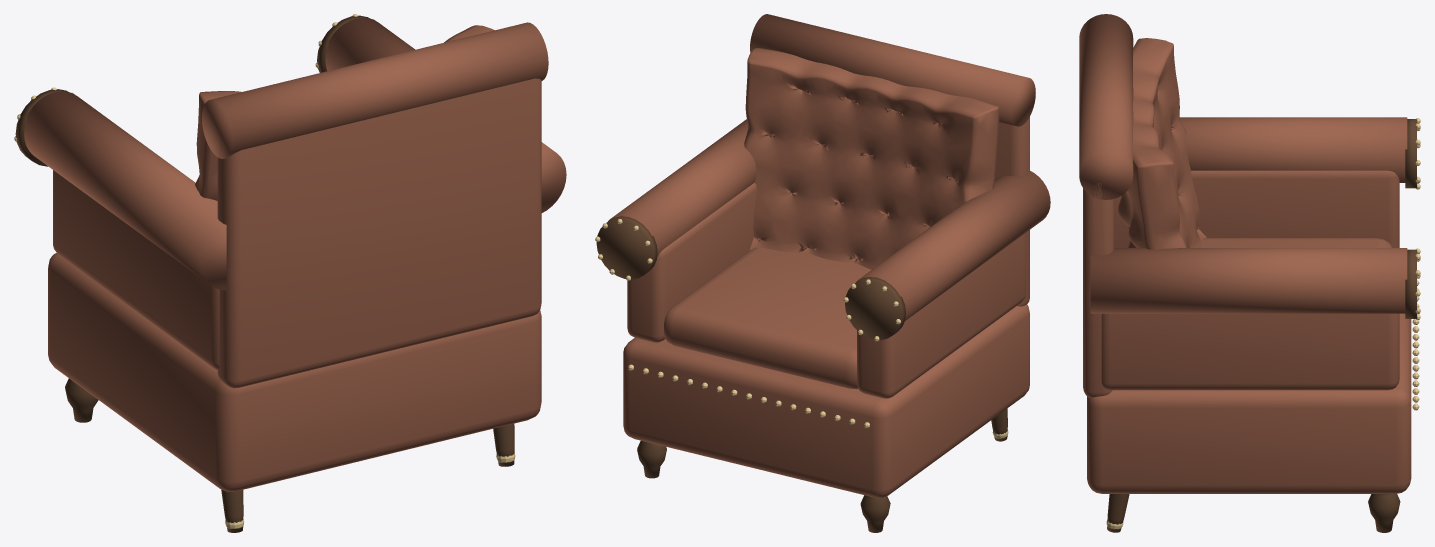
File: chair.glb
3 renders of one model, left to right at view 1: azimuth 30°, elevation 25°; view 2: azimuth 150°, elevation 25°; view 3: azimuth 270°, elevation 25°, orthographic. The views are drawn at different scales.
Visible parts, largest first — view 1: backpanel, body, backroll, armroll_L, arm_L, armroll_R, back, leg_BL (×2), leg_FL, armface_L; view 2: back, body, cushion, arm_L, armroll_L, backroll, arm_R, armroll_R, armface_L, armface_R, backpanel, leg_FL (×2); view 3: body, arm_R, armroll_R, arm_L, armroll_L, back, backroll, backpanel, cushion, leg_FL, armface_L, armface_R (+1 smaller).
Part boxes in pixels (left/top/right/bottom): backpanel: left=217, top=78, right=541, bottom=388; body: left=48, top=253, right=541, bottom=491; backroll: left=202, top=22, right=548, bottom=158; armroll_L: left=24, top=91, right=226, bottom=290; arm_L: left=53, top=170, right=219, bottom=369; armroll_R: left=325, top=17, right=566, bottom=212; back: left=195, top=25, right=494, bottom=200; leg_BL (×2): left=221, top=423, right=514, bottom=532; leg_FL: left=65, top=378, right=98, bottom=422; armface_L: left=15, top=89, right=68, bottom=166; back: left=744, top=47, right=999, bottom=269; body: left=623, top=304, right=1029, bottom=498; cushion: left=664, top=247, right=871, bottom=389; arm_L: left=857, top=233, right=1025, bottom=398; armroll_L: left=856, top=171, right=1050, bottom=320; backroll: left=750, top=14, right=1035, bottom=126; arm_R: left=627, top=182, right=756, bottom=342; armroll_R: left=608, top=119, right=756, bottom=257; armface_L: left=845, top=277, right=905, bottom=340; armface_R: left=596, top=216, right=657, bottom=279; backpanel: left=994, top=117, right=1029, bottom=306; leg_FL (×2): left=637, top=440, right=890, bottom=532; body: left=1087, top=313, right=1411, bottom=493; arm_R: left=1101, top=313, right=1399, bottom=390; armroll_R: left=1090, top=248, right=1407, bottom=313; arm_L: left=1114, top=170, right=1399, bottom=247; armroll_L: left=1179, top=117, right=1407, bottom=182; back: left=1118, top=38, right=1206, bottom=249; backroll: left=1079, top=14, right=1133, bottom=199; backpanel: left=1083, top=183, right=1113, bottom=397; cushion: left=1200, top=238, right=1392, bottom=247; leg_FL: left=1368, top=494, right=1400, bottom=532; armface_L: left=1405, top=119, right=1416, bottom=188; armface_R: left=1405, top=249, right=1416, bottom=318.
Bounding box in the file's own units: 0.9829 × 1.11 × 0.8846.
